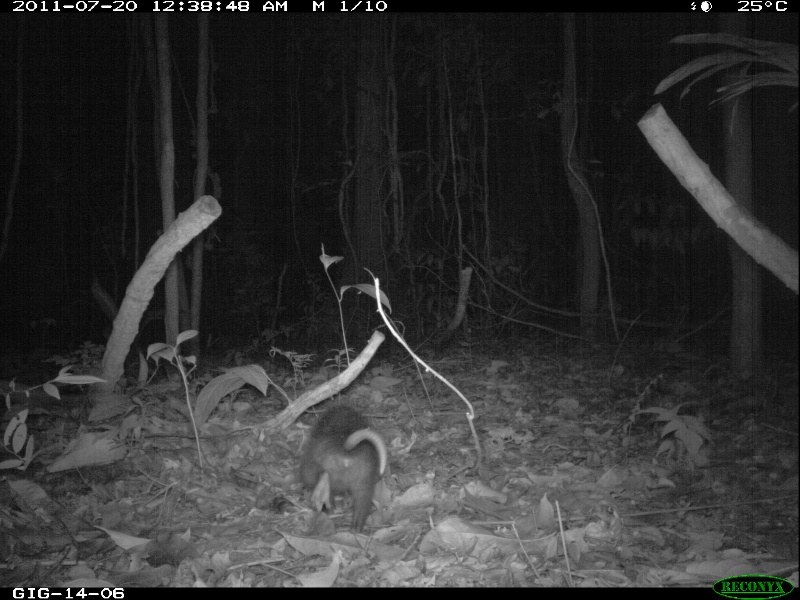opossum: (293, 406, 390, 532)
